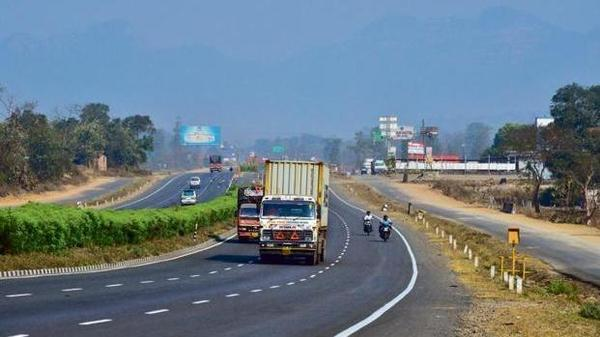car: (256, 155, 338, 267), (236, 183, 281, 248), (205, 153, 246, 177), (178, 183, 200, 208), (189, 174, 203, 190)
motocar: (377, 211, 398, 241), (360, 207, 376, 236)
